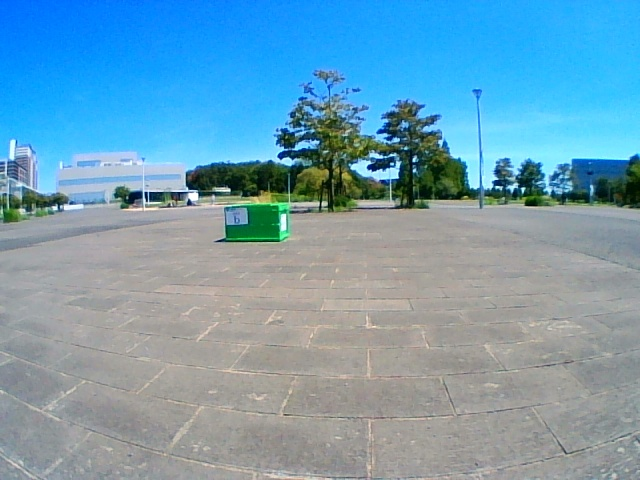green_box: (224, 204, 290, 242)
tag_b: (227, 208, 246, 224)
